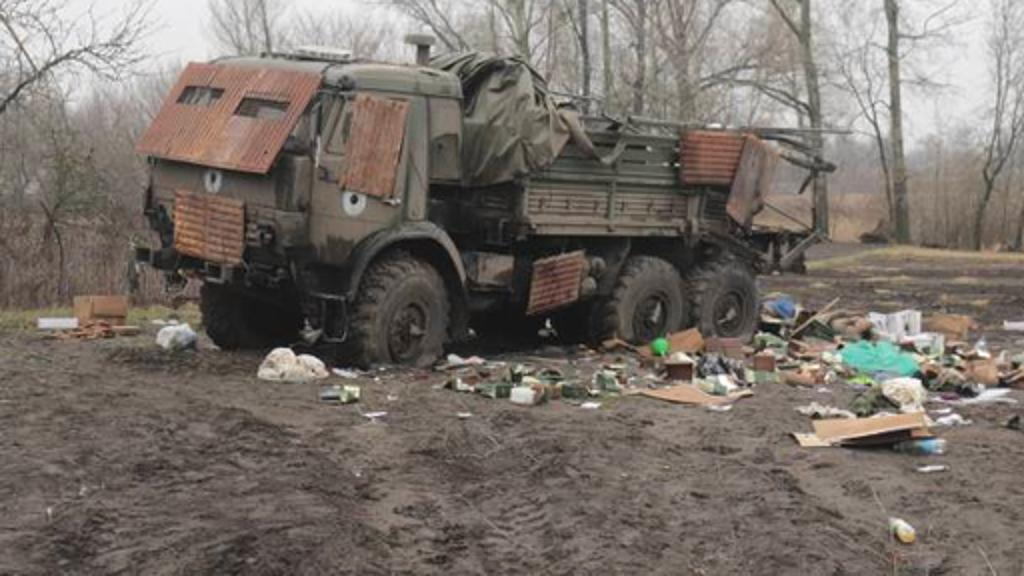TRUCK: (134, 38, 812, 364)
